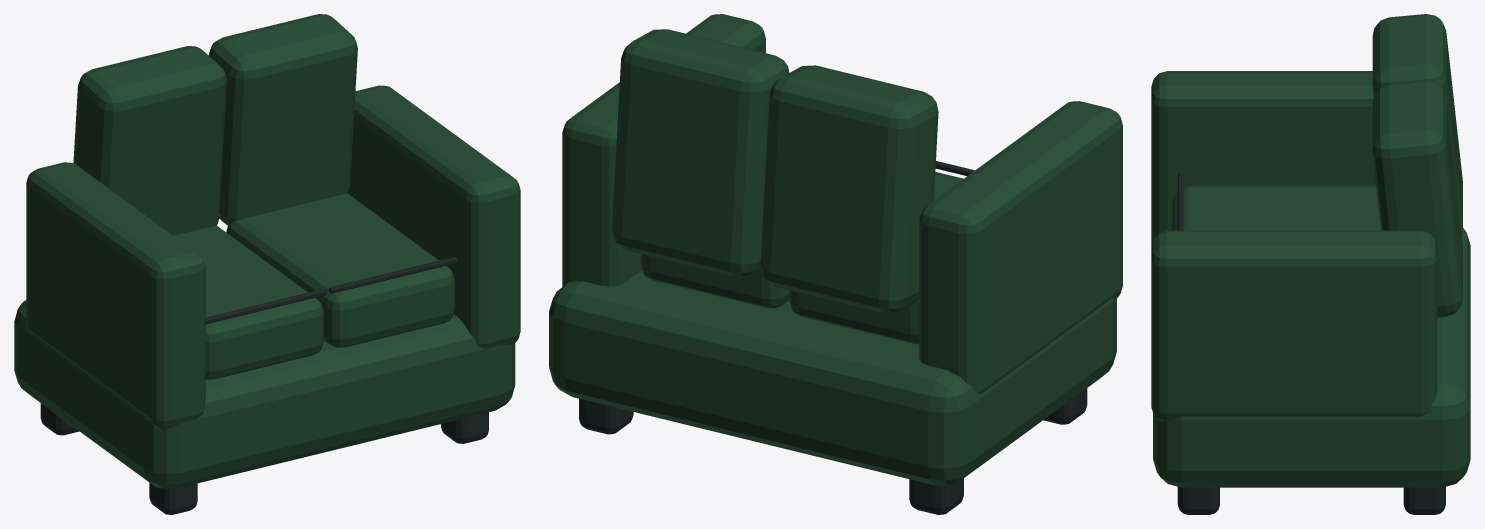
Rendered from best.glb.
The picture shows the model from 3 angles, left to right: view 1: azimuth 30°, elevation 25°; view 2: azimuth 150°, elevation 25°; view 3: azimuth 270°, elevation 25°; orthographic projection. The views are drawn at different scales.
Visible parts, largest first — view 1: Armrest, Sofa foot; view 2: Armrest, Sofa foot; view 3: Armrest, Sofa foot.
Part boxes in pixels (x1,y1,x2,y2): Armrest: (14,14,520,488); Sofa foot: (40,257,488,514); Armrest: (549,14,1122,485); Sofa foot: (579,161,1087,514); Armrest: (1151,14,1470,487); Sofa foot: (1177,173,1445,514).
Size of the model in its own units: 1 by 0.907 by 0.724.
